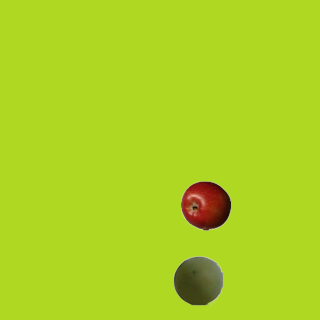Apple Braeburn: (180, 180, 230, 230)
Grape White 4: (172, 255, 222, 305)
